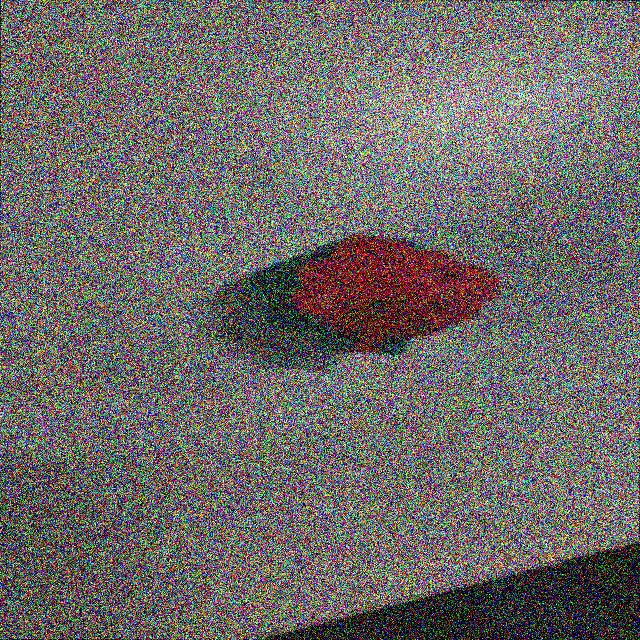House: (233, 233, 505, 357)
